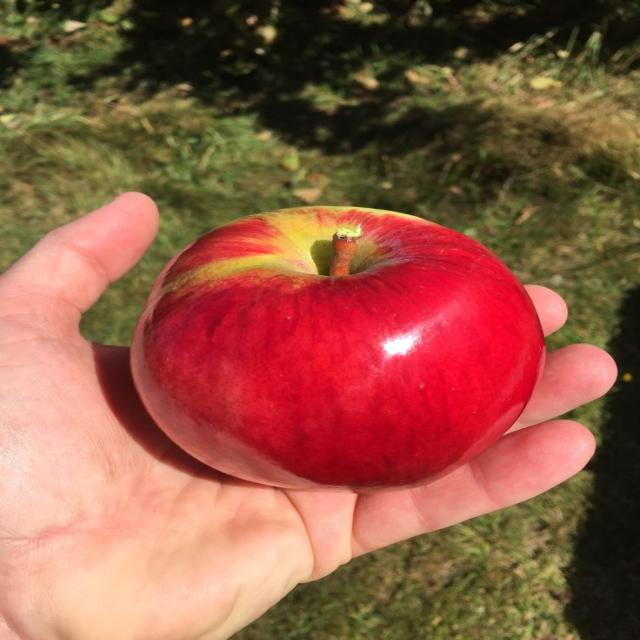apple: (132, 207, 544, 491)
